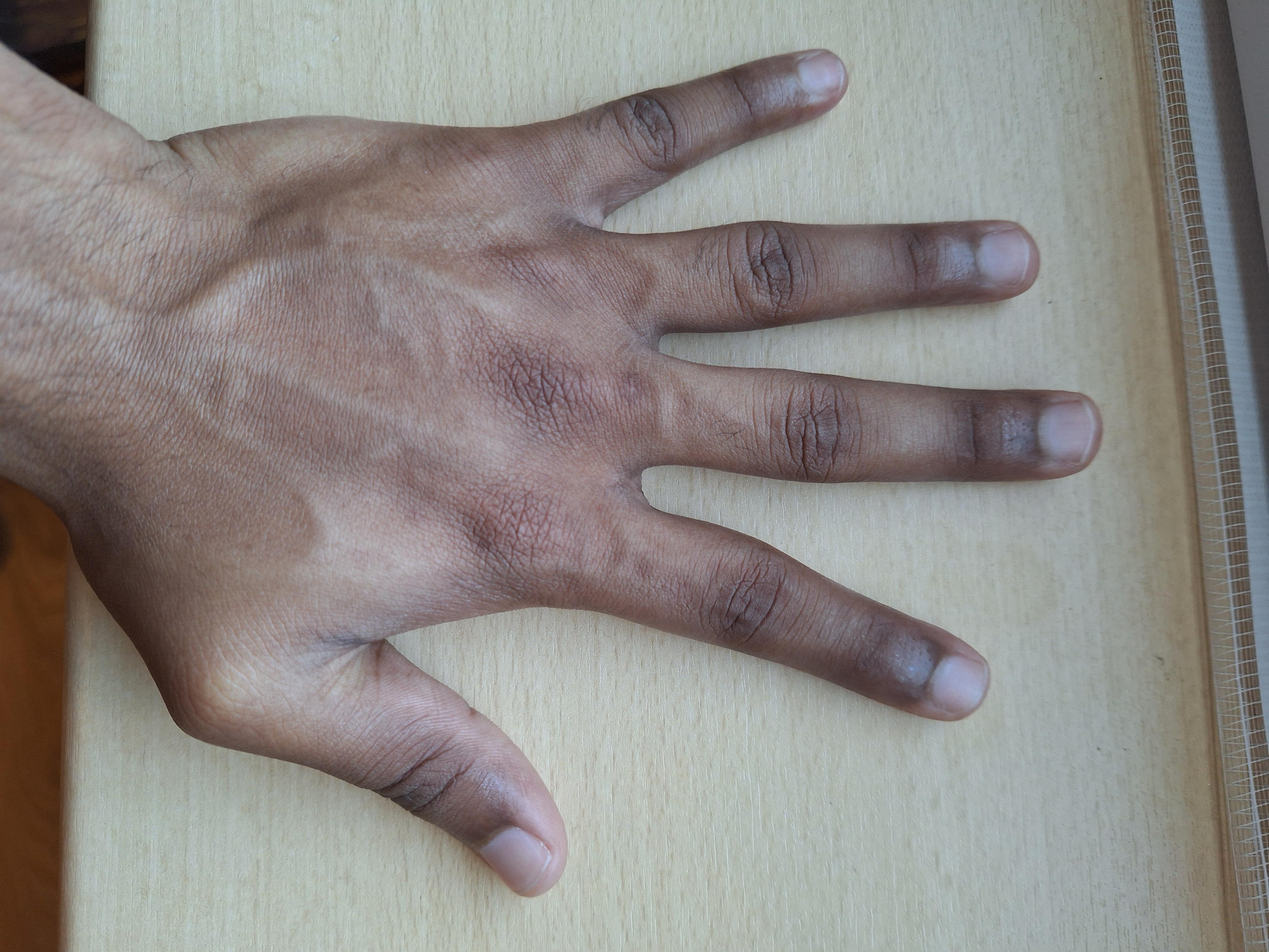Fingernail: (481, 827, 552, 894), (1038, 399, 1097, 465), (930, 655, 989, 713), (979, 229, 1029, 288), (795, 51, 844, 95)
